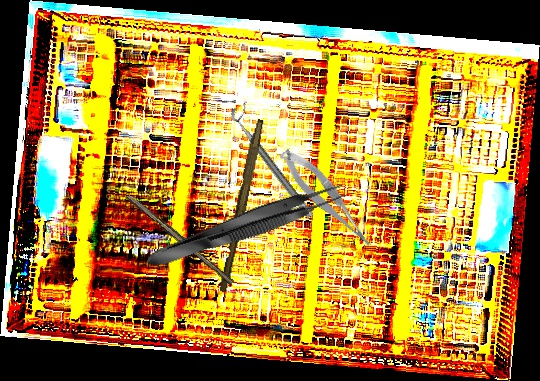Fixation Ring: (227, 102, 323, 219)
Micro Scissor: (276, 140, 377, 259)
Scalpel Handle: (125, 192, 237, 286), (217, 117, 265, 294)
Tissue Forceps: (142, 176, 349, 275)
